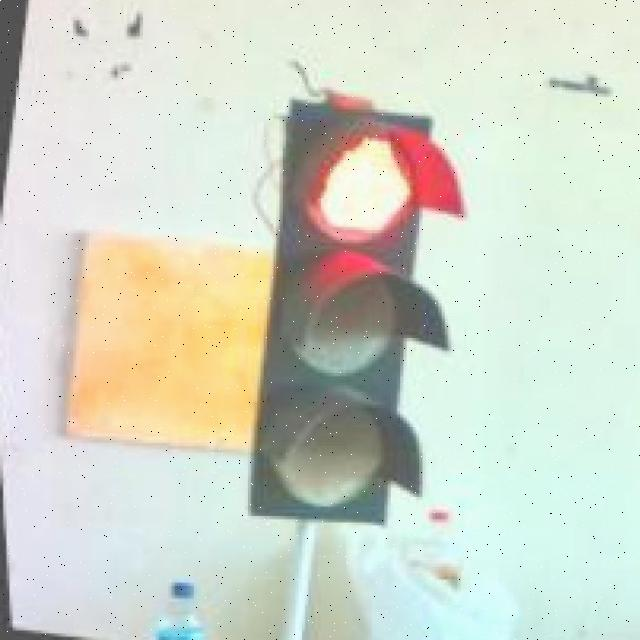Lampu Merah: (216, 95, 490, 543)
